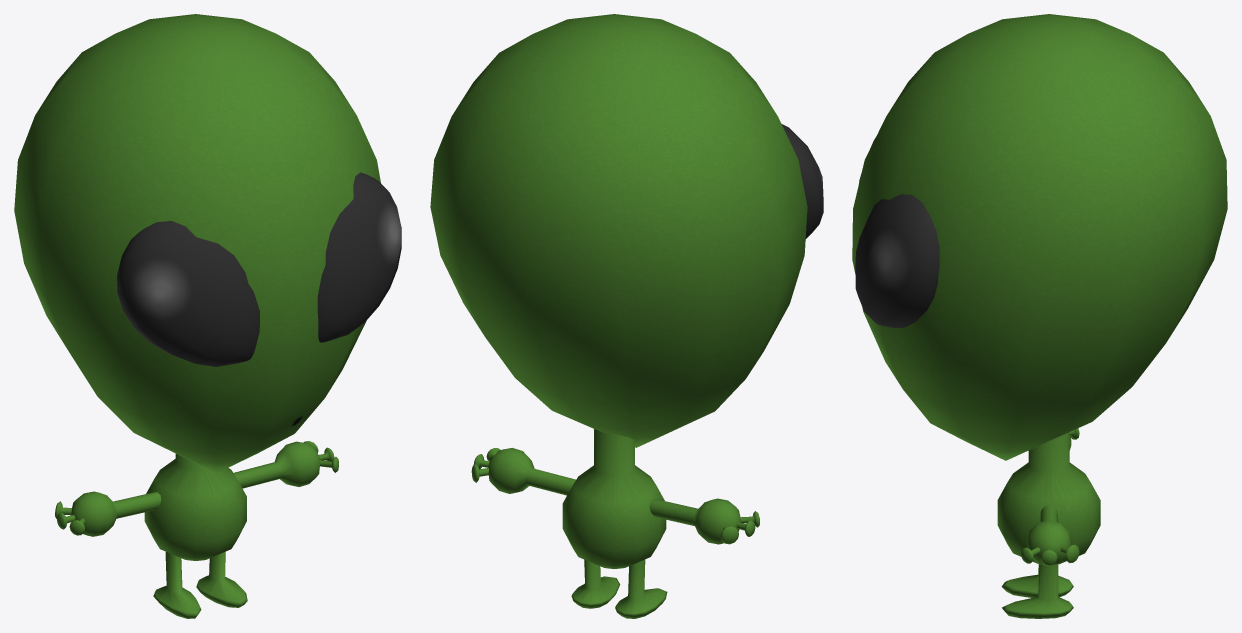
The model's file is Alien.glb.
3 renders of one model, left to right at view 1: azimuth 30°, elevation 25°; view 2: azimuth 150°, elevation 25°; view 3: azimuth 270°, elevation 25°, orthographic.
Visible parts, largest first — view 1: polySurface12; view 2: polySurface12; view 3: polySurface12.
Part boxes in pixels (bbox=[...]): polySurface12: bbox=[14, 14, 401, 618]; polySurface12: bbox=[430, 14, 823, 618]; polySurface12: bbox=[852, 14, 1227, 618].
Size of the model in its own units: 3.33 by 5.62 by 3.33.
1 material, 1 textured.
